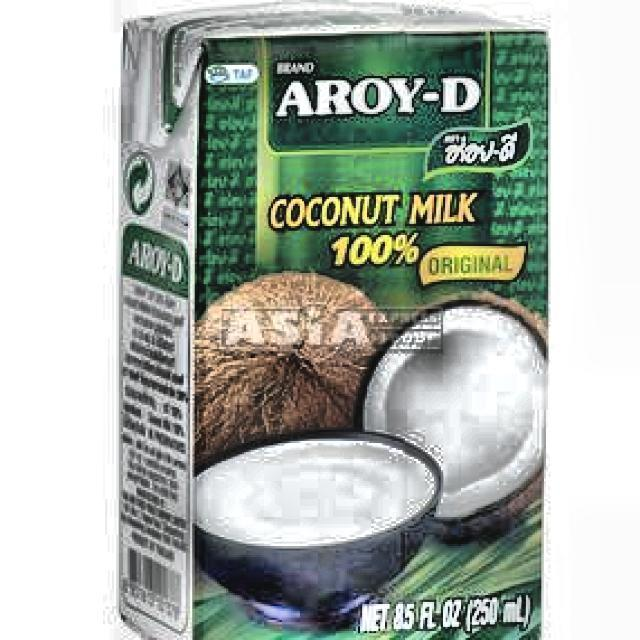cardboard: (114, 0, 551, 640)
